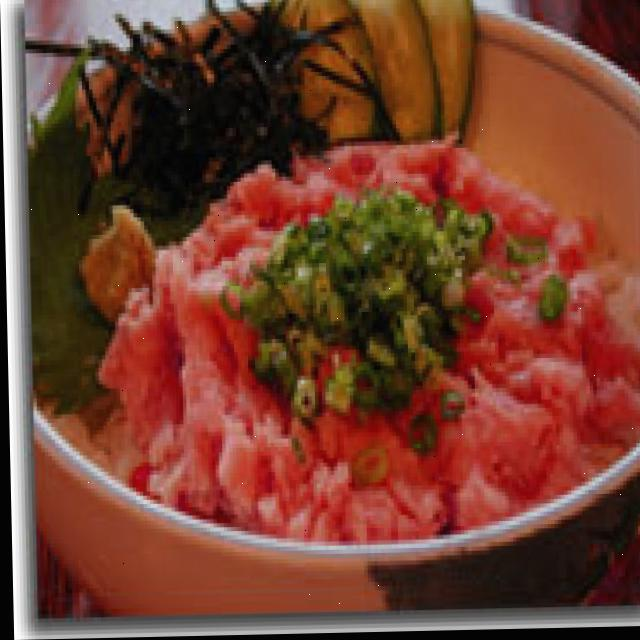刺身生食: (28, 0, 640, 615)
